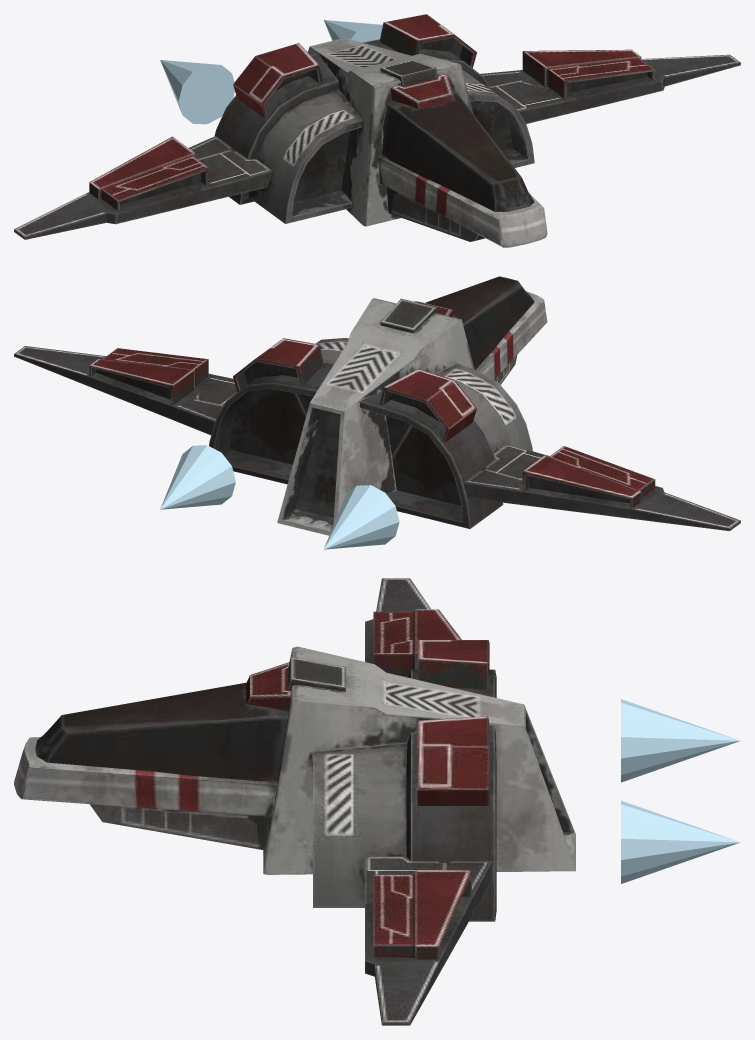
The model's file is caza_inv.glb.
3 renders of one model, top to bottom at view 1: azimuth 30°, elevation 25°; view 2: azimuth 150°, elevation 25°; view 3: azimuth 270°, elevation 25°, orthographic. The views are drawn at different scales.
Visible parts, largest first — view 1: Bob, Exhaust1, Exhaust0; view 2: Bob, Exhaust0, Exhaust1; view 3: Bob, Exhaust0, Exhaust1.
Boxes of the visible parts, box(x1,y1,x2,y2) form: Bob: box(14, 14, 740, 247); Exhaust1: box(160, 60, 234, 124); Exhaust0: box(324, 20, 382, 42); Bob: box(14, 276, 740, 535); Exhaust0: box(160, 445, 235, 509); Exhaust1: box(324, 485, 399, 549); Bob: box(14, 578, 575, 1025); Exhaust0: box(621, 800, 740, 883); Exhaust1: box(621, 699, 740, 782).
Bounding box in the file's own units: 10.5 × 2.04 × 7.26.
2 materials, 1 textured.
